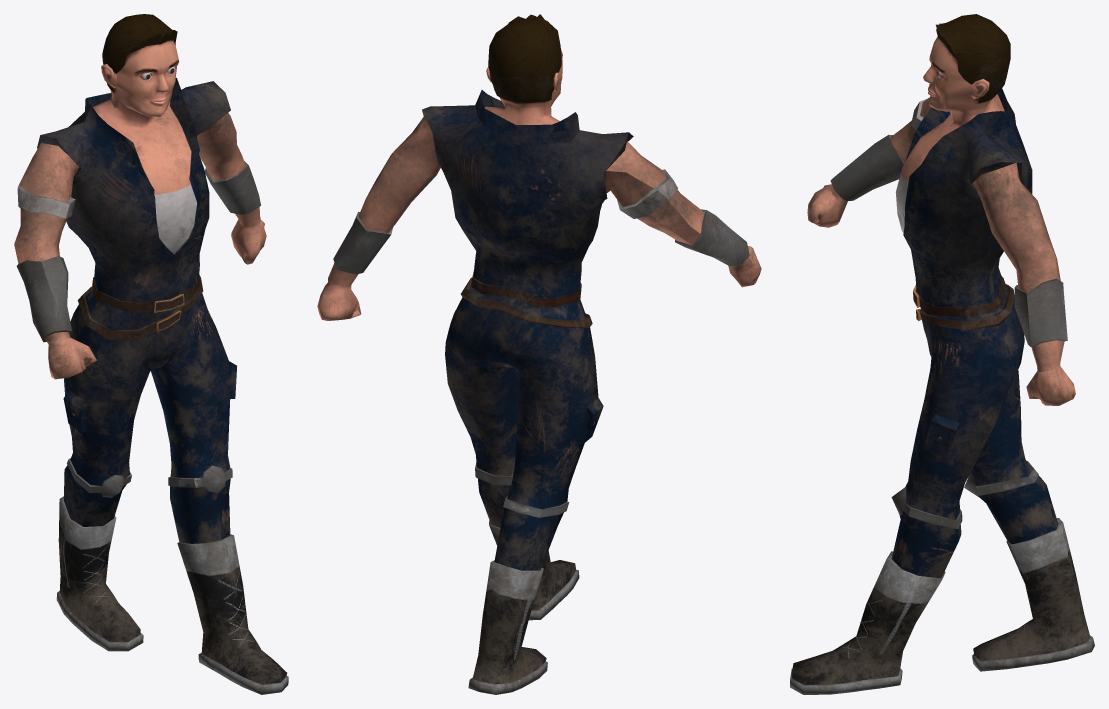
Rendered from Anim_andar_jugador.0033.obj.
3 renders of one model, left to right at view 1: azimuth 30°, elevation 25°; view 2: azimuth 150°, elevation 25°; view 3: azimuth 270°, elevation 25°, orthographic. The views are drawn at different scales.
Parts seen in each view (by area): view 1: Anim_andar_jugador; view 2: Anim_andar_jugador; view 3: Anim_andar_jugador.
Boxes of the visible parts, x1,y1,x2,y2 form: Anim_andar_jugador: (14,14,288,694); Anim_andar_jugador: (317,14,761,694); Anim_andar_jugador: (790,14,1094,694).
Bounding box in the file's own units: 5.13 × 9.61 × 4.09.
